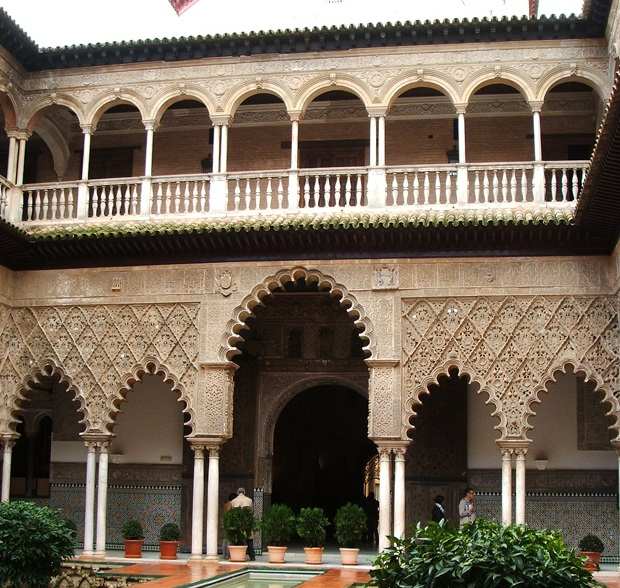arco-lobulado: (211, 264, 384, 379), (397, 356, 516, 457), (515, 355, 619, 459), (97, 355, 205, 452), (1, 357, 100, 452)
arco-medio-punto: (378, 68, 461, 123), (296, 71, 375, 128), (461, 64, 537, 122), (221, 76, 296, 131), (537, 64, 609, 117), (150, 85, 218, 134), (24, 92, 89, 141), (88, 87, 150, 138)
